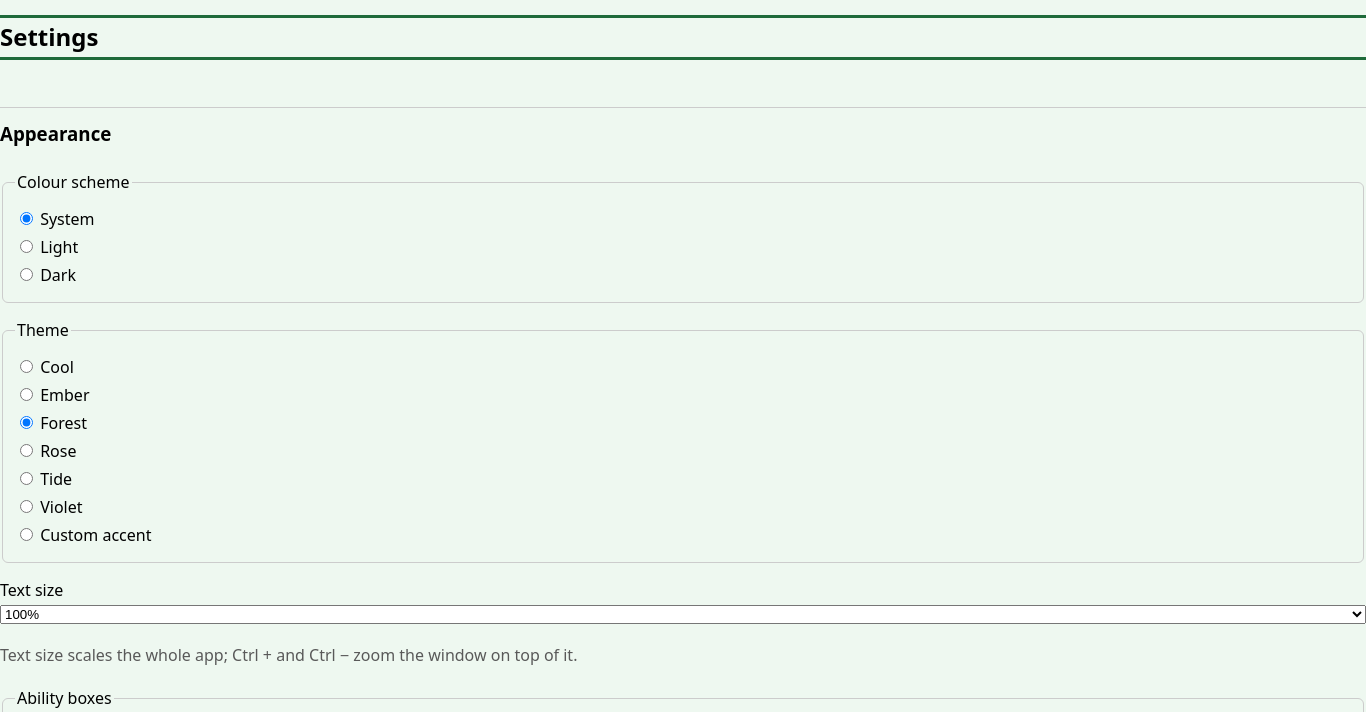
Test: shows the Accent hue slider only while Custom accent is chosen, and hides it again for a preset
Click the radio button labelled "Custom accent".
click(26, 535)  # box [20,528,33,541]
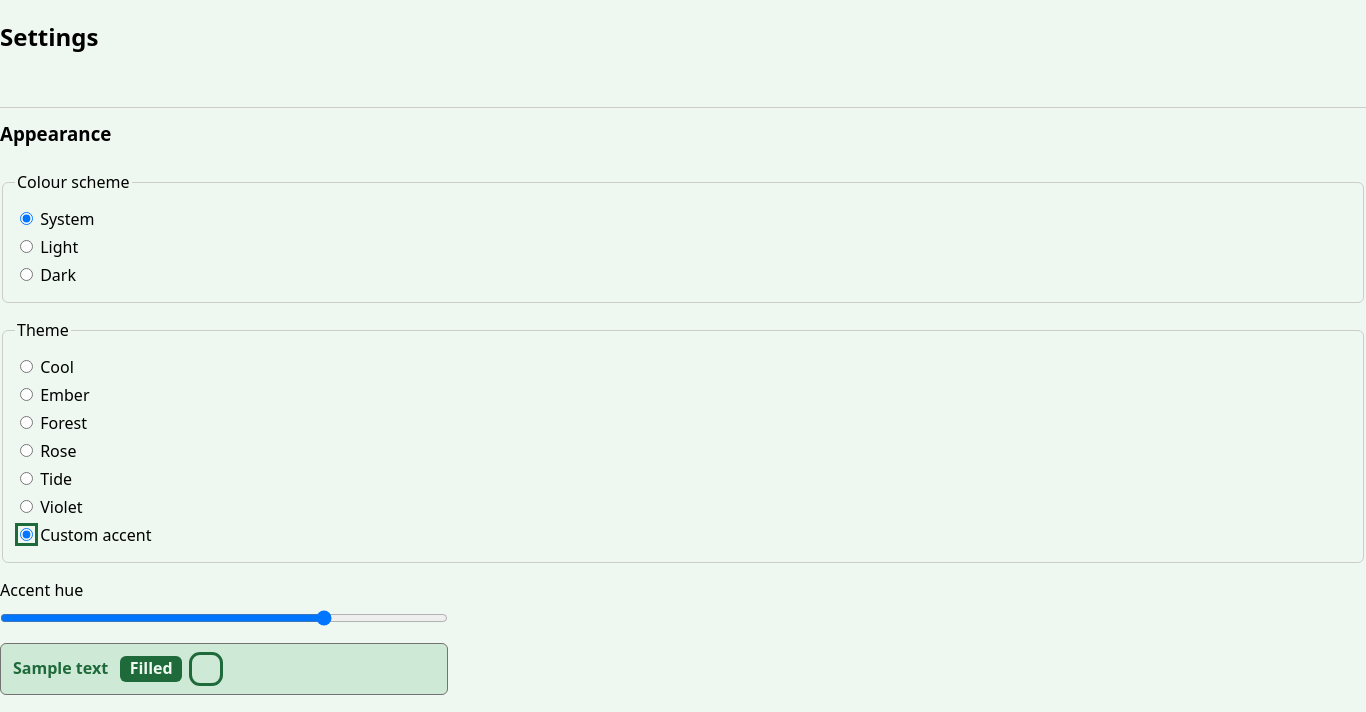
Click the radio button labelled "Tide".
click(26, 479)  # box [20,472,33,485]
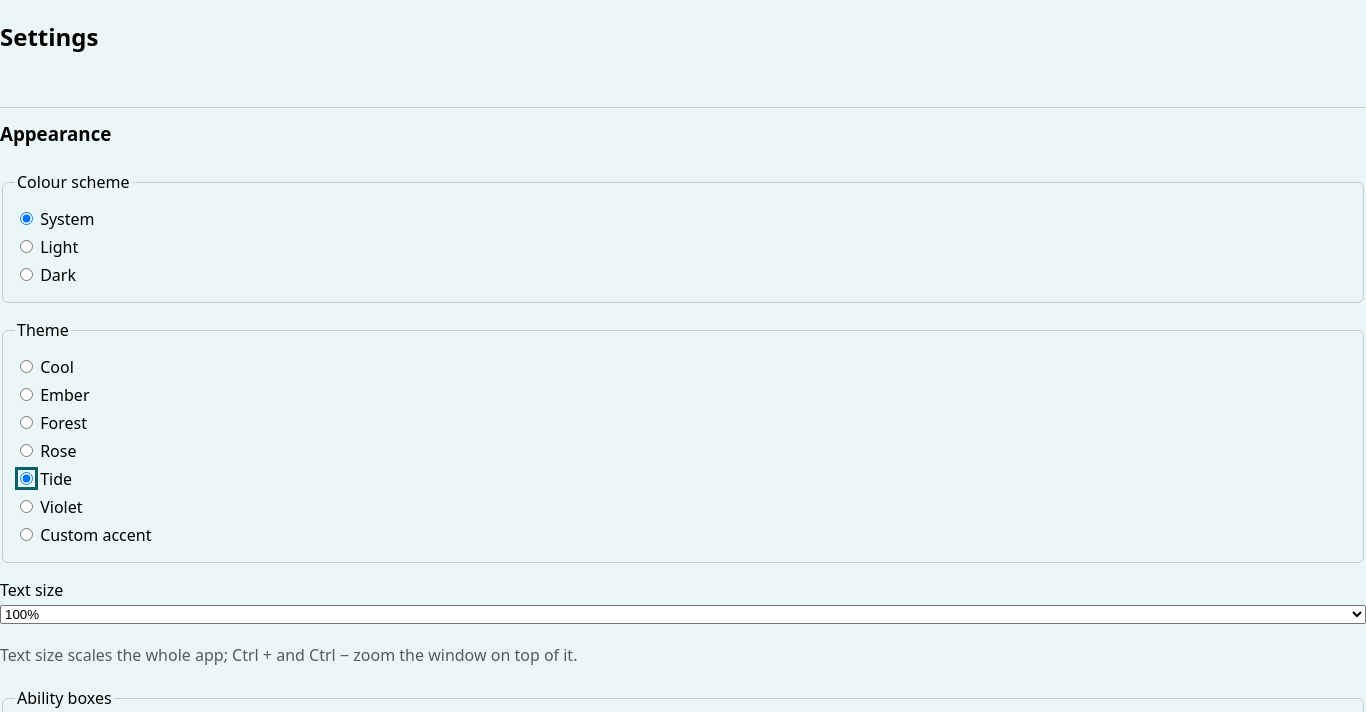
Expected: the slider is gone
